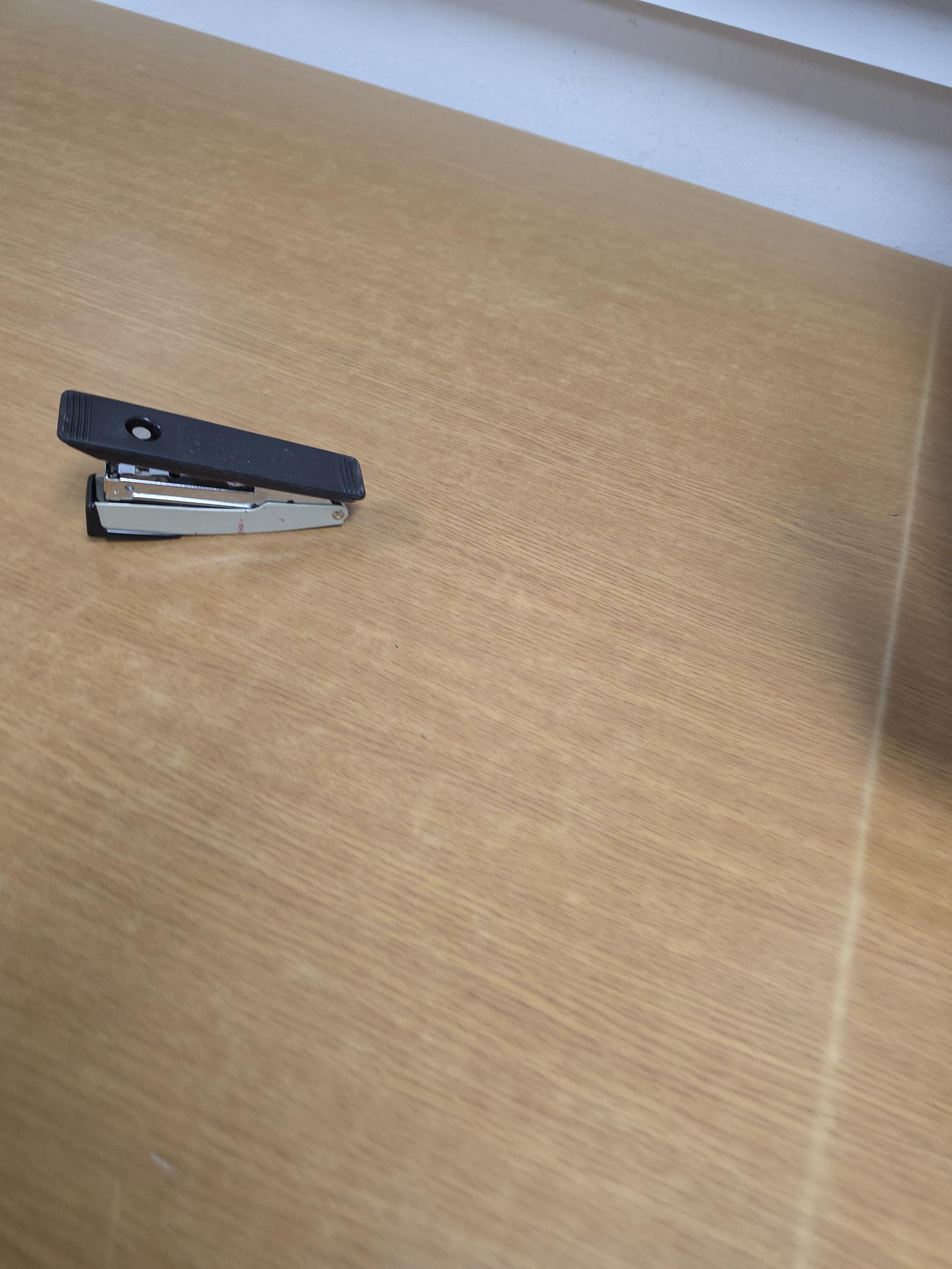stapler: (57, 389, 368, 541)
